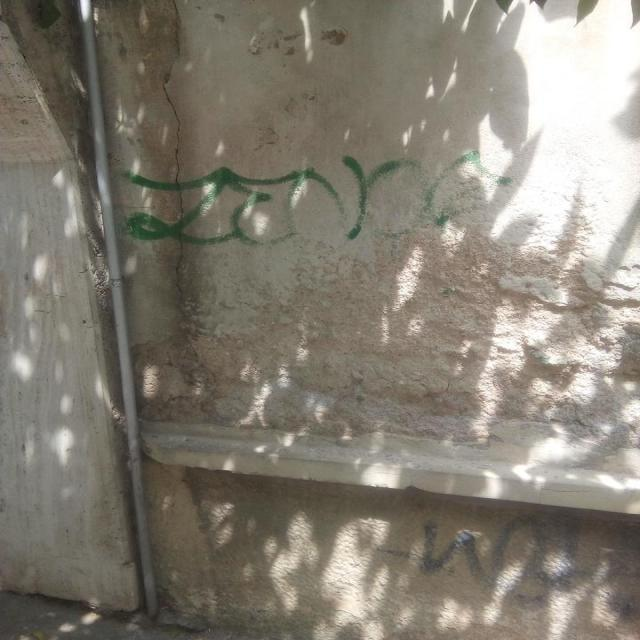nonspitting: (122, 153, 514, 249), (373, 513, 578, 603)
